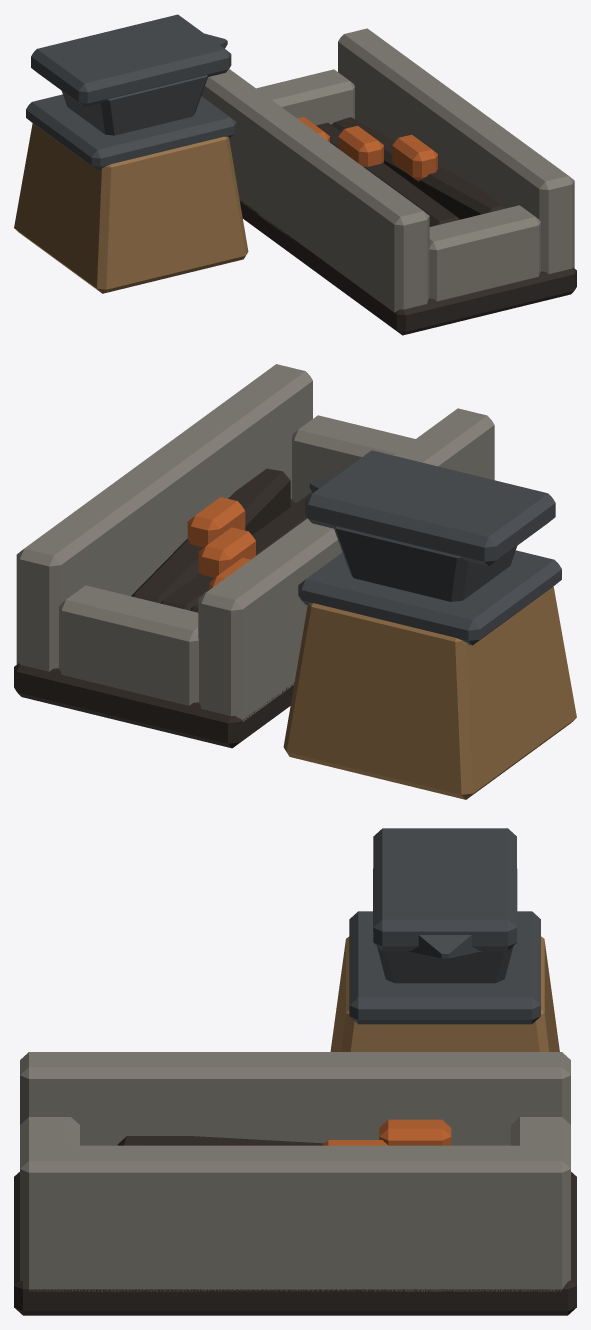
File: interior-forge.glb
3 renders of one model, top to bottom at view 1: azimuth 30°, elevation 25°; view 2: azimuth 150°, elevation 25°; view 3: azimuth 270°, elevation 25°, orthographic. The views are drawn at different scales.
Visible parts, largest first — view 1: interior-forge-visual; view 2: interior-forge-visual; view 3: interior-forge-visual.
Part boxes in pixels (x1=…): interior-forge-visual: x1=14, y1=14, x2=576, y2=335; interior-forge-visual: x1=14, y1=364, x2=576, y2=799; interior-forge-visual: x1=14, y1=828, x2=576, y2=1315.
Size of the model in its own units: 0.925 by 0.48 by 0.94.
